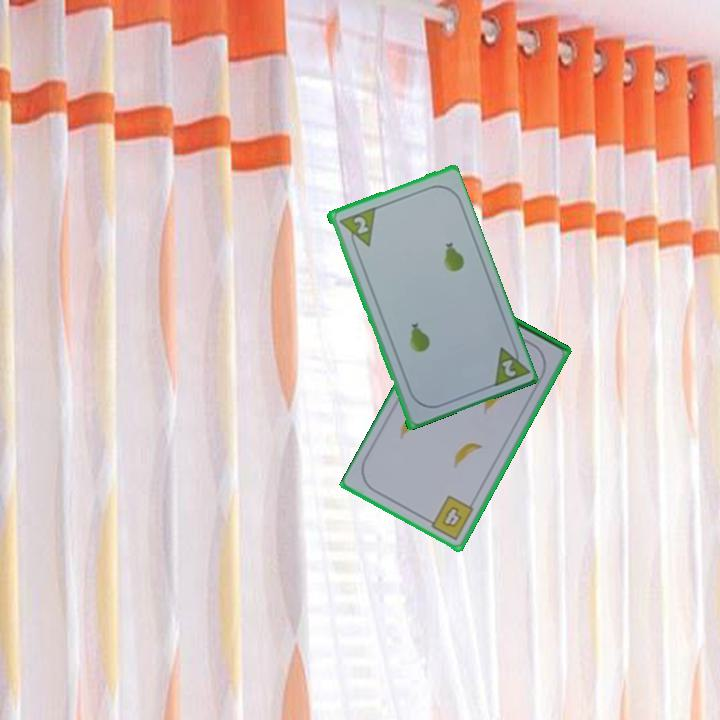2p: (349, 212, 371, 237), (498, 355, 519, 380)
4b: (423, 492, 477, 543)
